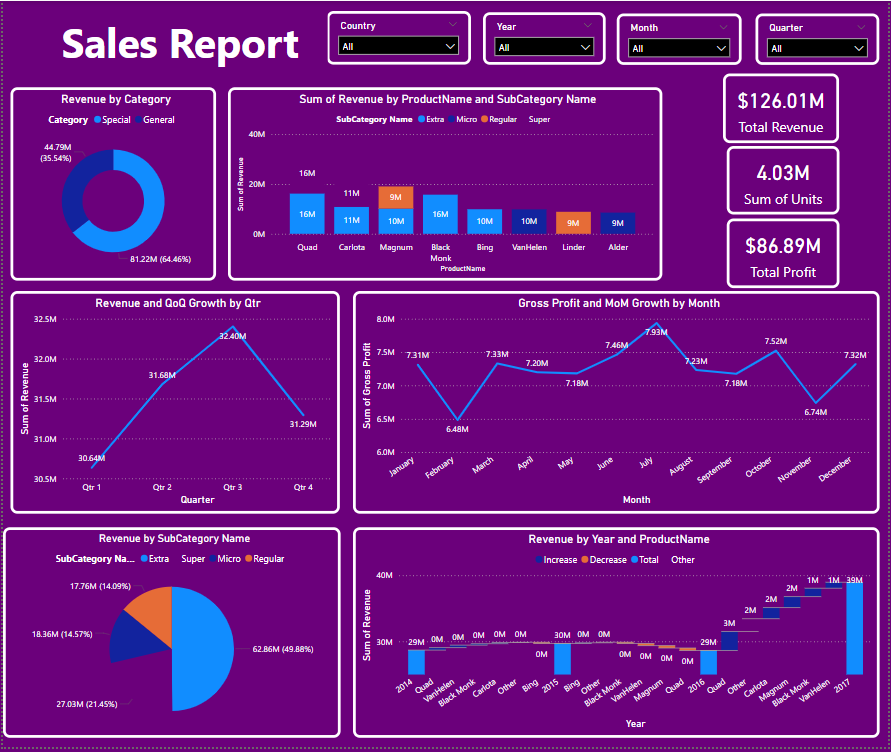

The page's visual inventory and layout, read from the dashboard file:
{"tool":"powerbi","page":{"name":"Page 1","canvas":[1280,1080],"ordinal":0},"visuals":[{"type":"lineChart","title":"Revenue and QoQ Growth by Qtr","fields":{"Y":["Sum(Sales.Revenue)"],"Category":["CalendarTable.Quarter"]},"box":[11.7,420,476.8,322.3],"z":0},{"type":"lineChart","title":"Gross Profit and MoM Growth by Month","fields":{"Y":["Sum(Sales.Gross Profit)"],"Category":["CalendarTable.Date.Variation.Date Hierarchy.Month"]},"box":[506,420,762.6,322.3],"z":1000},{"type":"pieChart","title":"Revenue by SubCategory Name","fields":{"Y":["Sum(Sales.Revenue)"],"Category":["SubCategory.SubCategory Name"]},"box":[0,762.6,488.5,304.8],"z":2000},{"type":"waterfallChart","title":"Revenue by Year and ProductName","fields":{"Breakdown":["Product.ProductName"],"Y":["Sum(Sales.Revenue)"],"Category":["CalendarTable.Date.Variation.Date Hierarchy.Year"]},"box":[506,762.6,762.6,304.8],"z":3000},{"type":"donutChart","title":"Revenue by Category","fields":{"Category":["Categories.Category"],"Y":["Sum(Sales.Revenue)"]},"box":[11.7,125.4,297.5,280],"z":4000},{"type":"columnChart","fields":{"Category":["Product.ProductName"],"Y":["Sum(Sales.Revenue)"],"Series":["SubCategory.SubCategory Name"]},"box":[325.2,125.4,628.5,280],"z":5000},{"type":"card","fields":{"Values":["Sales.Total Revenue"]},"box":[1042.6,105,167.7,100.6],"z":6000},{"type":"card","fields":{"Values":["Sales.Total Profit"]},"box":[1047,315,163.3,100.6],"z":7000},{"type":"card","fields":{"Values":["Sum(Sales.Units)"]},"box":[1047,210,163.3,99.2],"z":8000},{"type":"slicer","fields":{"Values":["Geography.Country"]},"box":[469.5,14.6,208.5,77.3],"z":9000},{"type":"slicer","fields":{"Values":["CalendarTable.Year"]},"box":[695.6,16,177.9,75.8],"z":10000},{"type":"slicer","fields":{"Values":["CalendarTable.Month"]},"box":[888,17.5,180.8,74.4],"z":11000},{"type":"slicer","fields":{"Values":["CalendarTable.Quarter"]},"box":[1089.3,17.5,179.4,74.4],"z":12000},{"type":"textbox","box":[78.7,14.6,390.8,94.8],"z":13000}]}

Visuals, with their boxes in screenshot pixels (x1, y1, x2, y2), scaled from the page's 1280x1080 canvas onto the 891x752 screenshot:
"Revenue and QoQ Growth by Qtr" lineChart: [left=8, top=292, right=340, bottom=517]
"Gross Profit and MoM Growth by Month" lineChart: [left=352, top=292, right=883, bottom=517]
"Revenue by SubCategory Name" pieChart: [left=0, top=531, right=340, bottom=743]
"Revenue by Year and ProductName" waterfallChart: [left=352, top=531, right=883, bottom=743]
"Revenue by Category" donutChart: [left=8, top=87, right=215, bottom=282]
columnChart - Product.ProductName x Sum(Sales.Revenue): [left=226, top=87, right=664, bottom=282]
card - Sales.Total Revenue: [left=726, top=73, right=842, bottom=143]
card - Sales.Total Profit: [left=729, top=219, right=842, bottom=289]
card - Sum(Sales.Units): [left=729, top=146, right=842, bottom=215]
slicer - Geography.Country: [left=327, top=10, right=472, bottom=64]
slicer - CalendarTable.Year: [left=484, top=11, right=608, bottom=64]
slicer - CalendarTable.Month: [left=618, top=12, right=744, bottom=64]
slicer - CalendarTable.Quarter: [left=758, top=12, right=883, bottom=64]
textbox: [left=55, top=10, right=327, bottom=76]
